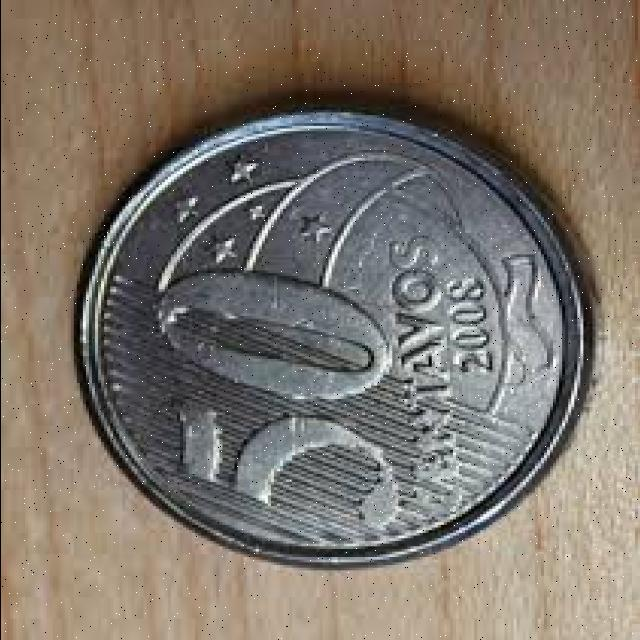50 cent: (70, 106, 602, 572)
